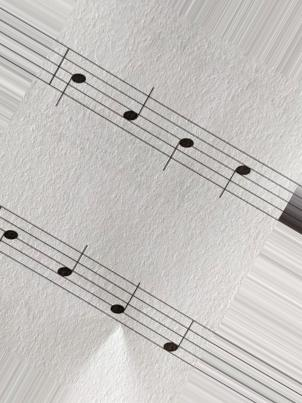note: (52, 234, 94, 305), (217, 137, 256, 213), (120, 79, 159, 151), (159, 298, 197, 371), (159, 105, 197, 174), (53, 44, 89, 113), (108, 271, 143, 339)
